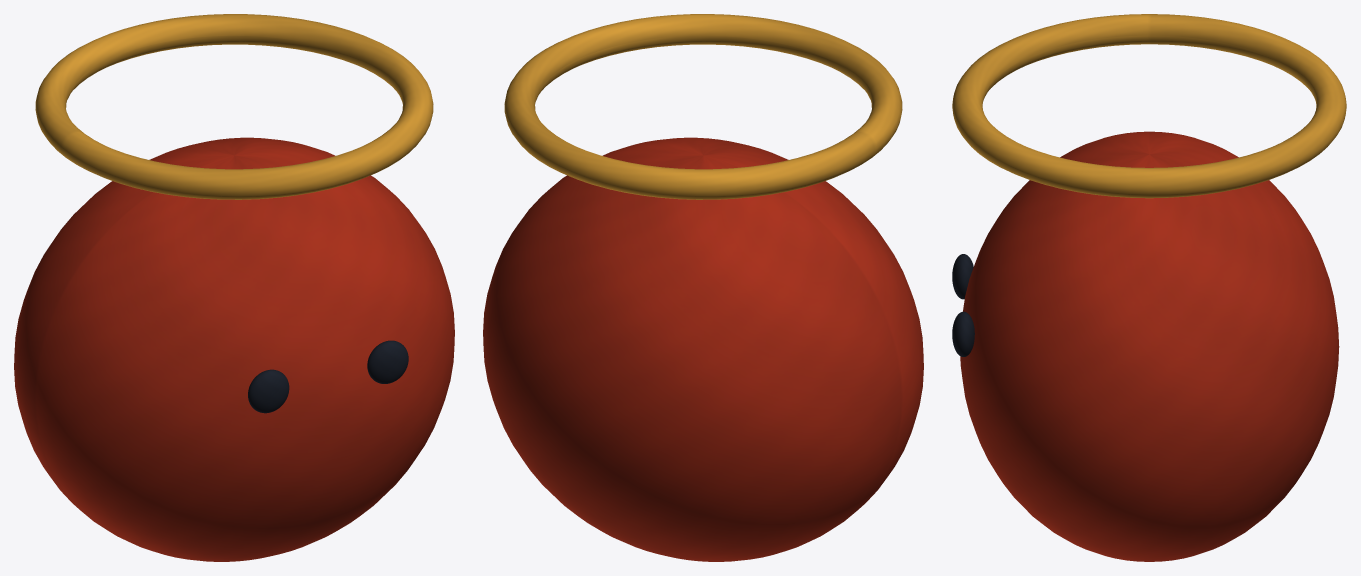
Rendered from PoringAngel.glb.
3 renders of one model, left to right at view 1: azimuth 30°, elevation 25°; view 2: azimuth 150°, elevation 25°; view 3: azimuth 270°, elevation 25°, orthographic.
Visible parts, largest first — view 1: Body, Halo, Eye.001, Eye; view 2: Body, Halo; view 3: Body, Halo, Eye.001, Eye.
Part boxes in pixels (x1=…): Body: x1=14, y1=137, x2=454, y2=561; Halo: x1=35, y1=14, x2=433, y2=199; Eye.001: x1=367, y1=340, x2=408, y2=383; Eye: x1=248, y1=369, x2=289, y2=413; Body: x1=483, y1=137, x2=923, y2=561; Halo: x1=504, y1=14, x2=902, y2=199; Body: x1=960, y1=131, x2=1339, y2=561; Halo: x1=952, y1=14, x2=1346, y2=198; Eye.001: x1=952, y1=311, x2=974, y2=356; Eye: x1=952, y1=254, x2=973, y2=299.
Size of the model in its own units: 1.2 by 1.3 by 1.04.
Materials: 3 (3 with a texture image).
